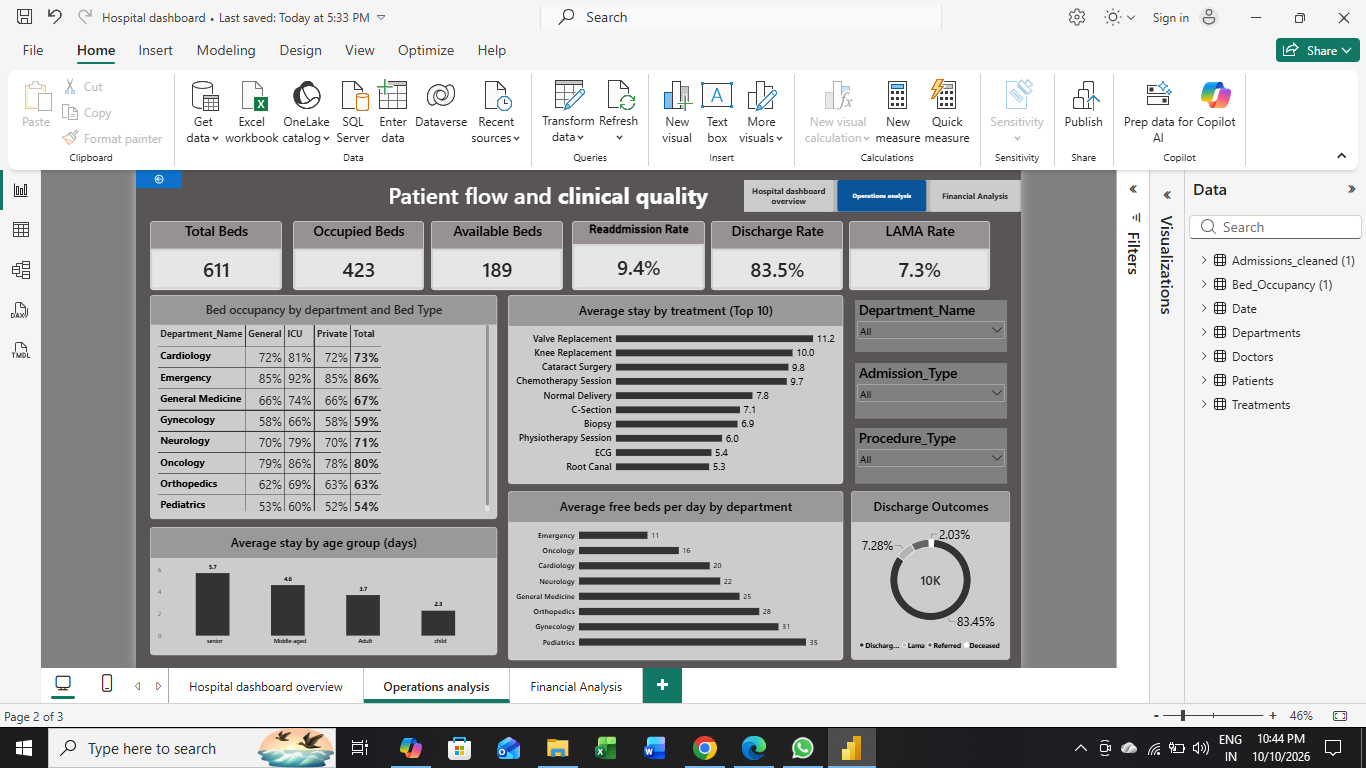

Layout of this report page (visuals, bound fields, positions):
{"tool":"powerbi","page":{"name":"Operations analysis","canvas":[1920,1080],"ordinal":1},"visuals":[{"type":"textbox","box":[10.8,39,1908.4,101.9],"z":0},{"type":"textbox","box":[30.4,21.7,1858.6,69.4],"z":1000},{"type":"cardVisual","title":"Readdmission Rate","fields":{"Data":["Admissions_cleaned (1).Readmission Rate"]},"box":[945.5,110.6,288.4,149.6],"z":2000},{"type":"cardVisual","title":"LAMA Rate","fields":{"Data":["Admissions_cleaned (1).LAMA Rate"]},"box":[1559.3,110.6,329.6,149.6],"z":3000},{"type":"cardVisual","title":"Total Beds","fields":{"Data":["Admissions_cleaned (1).Avg Total Beds"]},"box":[30.4,110.6,286.3,149.6],"z":4000},{"type":"cardVisual","title":"Available  Beds","fields":{"Data":["Admissions_cleaned (1).Avg Available Beds"]},"box":[640.4,110.6,286.3,149.6],"z":5000},{"type":"cardVisual","title":"Occupied   Beds","fields":{"Data":["Admissions_cleaned (1).Avg Occupied Beds"]},"box":[340.4,110.6,284.1,149.6],"z":6000},{"type":"cardVisual","title":"Discharge Rate ","fields":{"Data":["Admissions_cleaned (1).Discharged %"]},"box":[1246.5,111.6,286.3,149.6],"z":7000},{"type":"actionButton","box":[0,0,100,40],"z":8000},{"type":"donutChart","title":"Discharge Outcomes ","fields":{"Category":["Admissions_cleaned (1).Discharge_Status"],"Y":["Admissions_cleaned (1).Total Admissions"]},"box":[1550.6,696.1,344.8,366],"z":9000},{"type":"clusteredBarChart","title":"Average stay by treatment (Top 10)","fields":{"Category":["Treatments.Procedure_Type"],"Y":["Admissions_cleaned (1).Average_length_ofstay"]},"box":[806.7,271.1,726.5,409.9],"z":10000},{"type":"clusteredColumnChart","title":"Average stay by age group (days)","fields":{"Category":["Patients.Age group"],"Y":["Admissions_cleaned (1).Average_length_ofstay"]},"box":[30.4,774.2,752.5,288.4],"z":11000},{"type":"slicer","fields":{"Values":["Departments.Department_Name"]},"box":[1559.3,281.9,329.6,112.8],"z":12000},{"type":"slicer","fields":{"Values":["Admissions_cleaned (1).Discharge_Status"]},"box":[1559.3,418.6,329.6,121.4],"z":13000},{"type":"slicer","fields":{"Values":["Treatments.Procedure_Type"]},"box":[1559.3,559.5,329.6,121.4],"z":14000},{"type":"pivotTable","title":"Bed occupancy by department and Bed Type ","fields":{"Columns":["Bed_Occupancy (1).Bed_Type"],"Rows":["Departments.Department_Name"],"Values":["Admissions_cleaned (1).Bed_occupancy %"]},"box":[30.4,271.1,752.5,485.8],"z":15000},{"type":"clusteredBarChart","title":"Average free beds per day by department","fields":{"Category":["Departments.Department_Name"],"Y":["Admissions_cleaned (1).Avg Available Beds"]},"box":[806.7,696.1,726.5,366.5],"z":16000},{"type":"pageNavigator","box":[1318.6,21.7,600.7,69.4],"z":17000}]}

Visuals, with their boxes on the page's 1920x1080 design canvas (x1, y1, x2, y2). These are canvas units, not pixel positions in the 1366x768 screenshot, which may show the page scaled, cropped or inside an application window:
textbox: <region>11, 39, 1919, 141</region>
textbox: <region>30, 22, 1889, 91</region>
"Readdmission Rate" cardVisual: <region>946, 111, 1234, 260</region>
"LAMA Rate" cardVisual: <region>1559, 111, 1889, 260</region>
"Total Beds" cardVisual: <region>30, 111, 317, 260</region>
"Available  Beds" cardVisual: <region>640, 111, 927, 260</region>
"Occupied   Beds" cardVisual: <region>340, 111, 624, 260</region>
"Discharge Rate " cardVisual: <region>1246, 112, 1533, 261</region>
actionButton: <region>0, 0, 100, 40</region>
"Discharge Outcomes " donutChart: <region>1551, 696, 1895, 1062</region>
"Average stay by treatment (Top 10)" clusteredBarChart: <region>807, 271, 1533, 681</region>
"Average stay by age group (days)" clusteredColumnChart: <region>30, 774, 783, 1063</region>
slicer - Departments.Department_Name: <region>1559, 282, 1889, 395</region>
slicer - Admissions_cleaned (1).Discharge_Status: <region>1559, 419, 1889, 540</region>
slicer - Treatments.Procedure_Type: <region>1559, 560, 1889, 681</region>
"Bed occupancy by department and Bed Type " pivotTable: <region>30, 271, 783, 757</region>
"Average free beds per day by department" clusteredBarChart: <region>807, 696, 1533, 1063</region>
pageNavigator: <region>1319, 22, 1919, 91</region>
